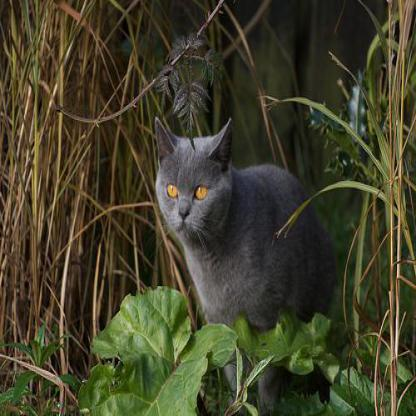cat: (154, 116, 335, 414)
